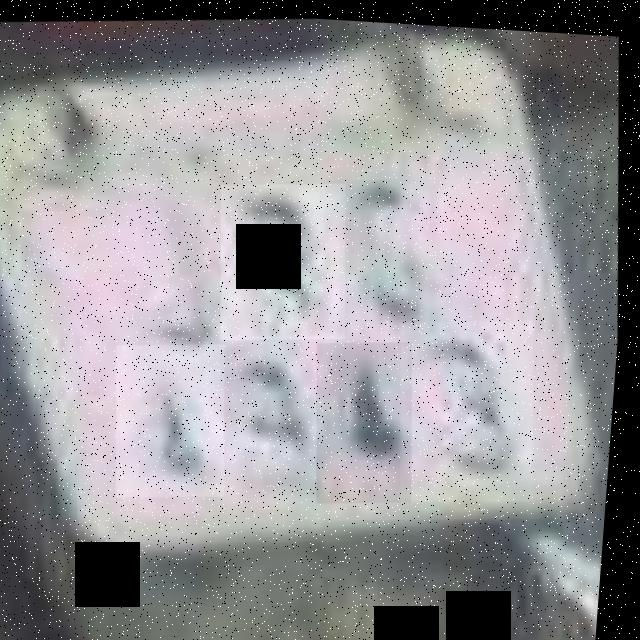3: (395, 307, 550, 503)
4: (113, 336, 240, 500), (312, 332, 428, 503)
C: (340, 178, 461, 318)
E: (200, 326, 332, 494)
J: (120, 175, 246, 335)
P: (214, 173, 359, 342)
